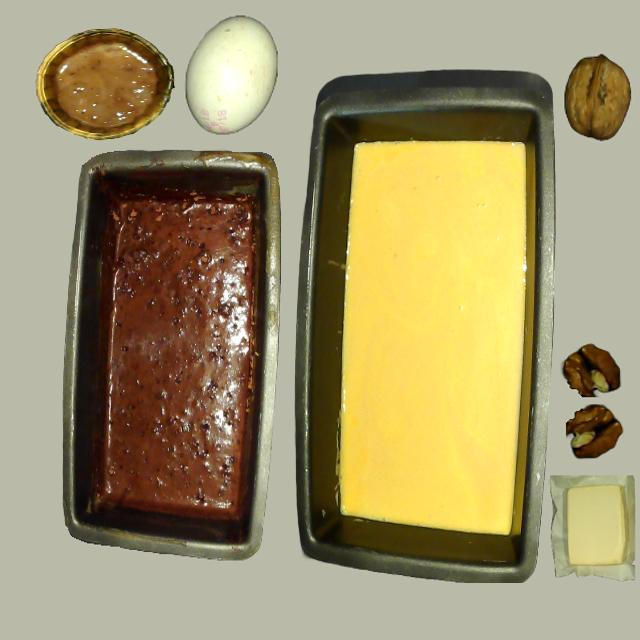Walnut: (564, 54, 631, 140)
